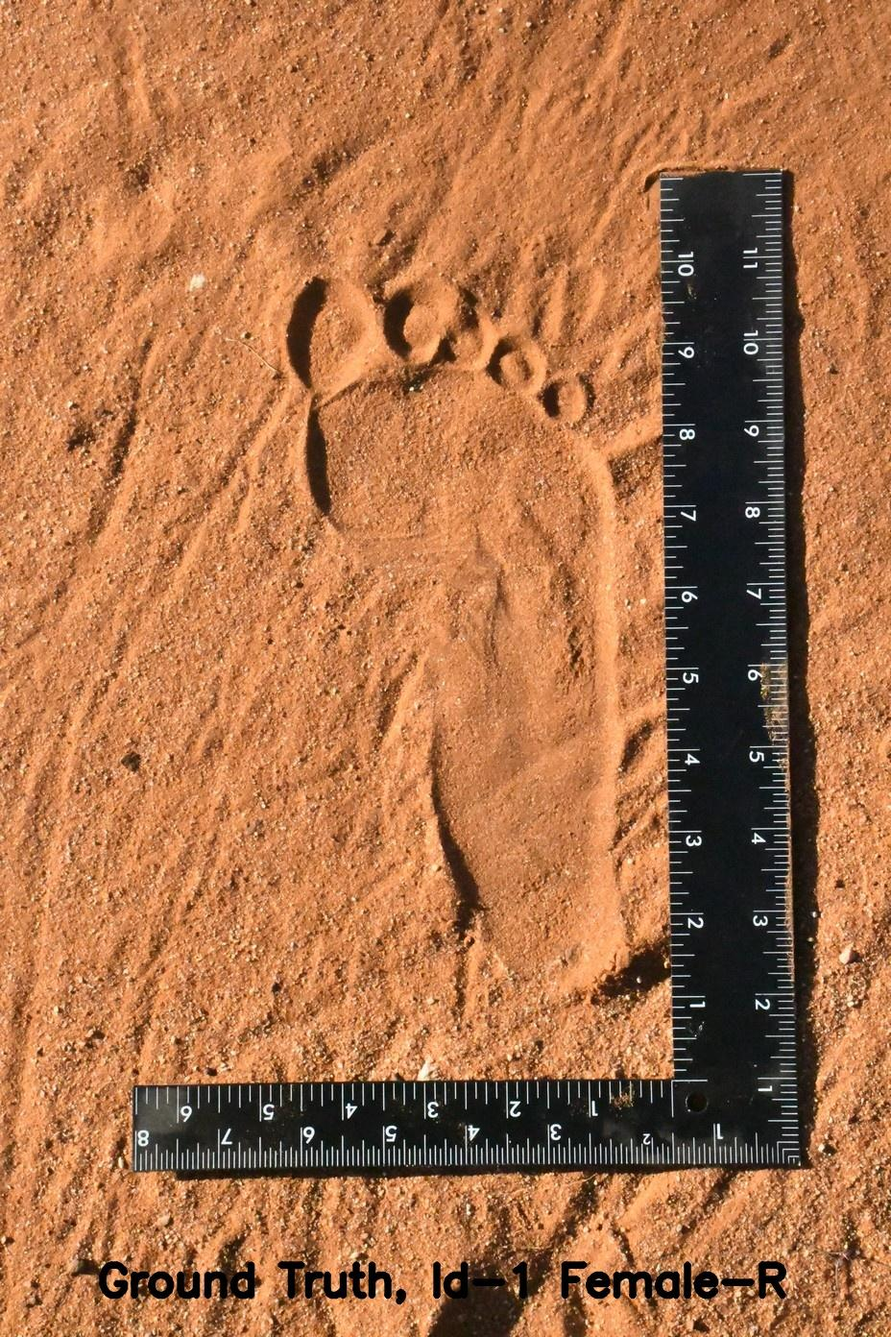human_footprint: (231, 219, 660, 1044)
